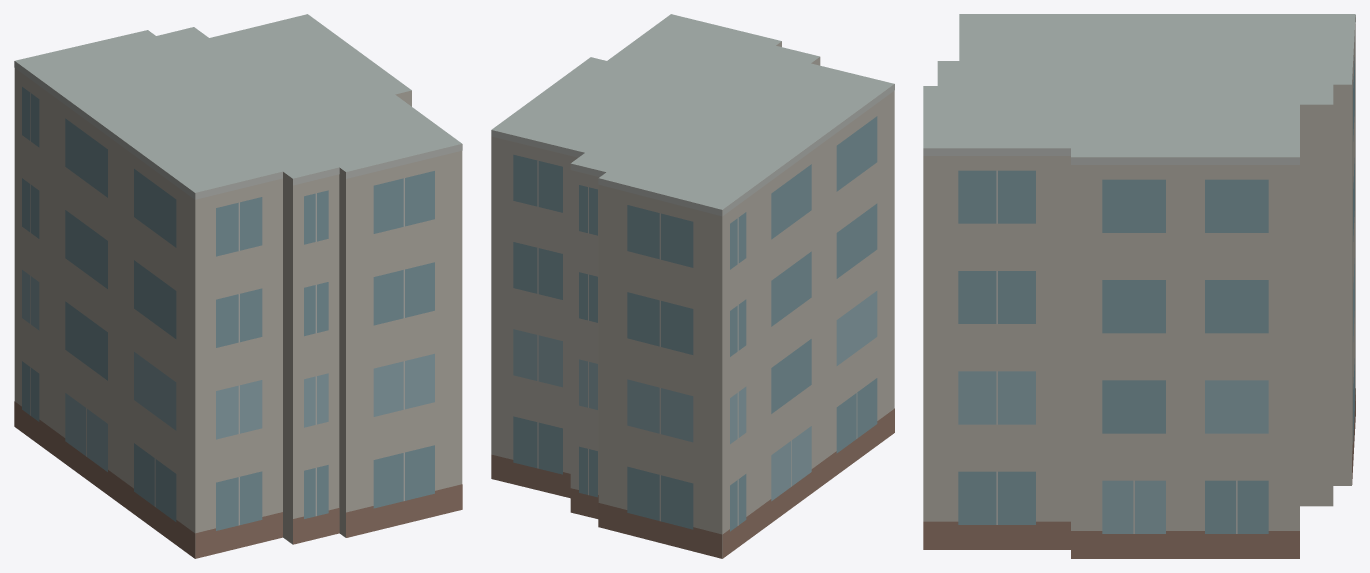
Rendered from survey-upis-32482147.glb.
3 views of the same model, side by side, from view 1: azimuth 30°, elevation 25°; view 2: azimuth 150°, elevation 25°; view 3: azimuth 270°, elevation 25° (orthographic). The views are drawn at different scales.
Parts seen in each view (by area): view 1: survey-upis-32482147.tmp; view 2: survey-upis-32482147.tmp; view 3: survey-upis-32482147.tmp.
Part boxes in pixels (bbox=[...]): survey-upis-32482147.tmp: bbox=[14, 14, 462, 558]; survey-upis-32482147.tmp: bbox=[491, 14, 894, 558]; survey-upis-32482147.tmp: bbox=[923, 14, 1355, 558].
Size of the model in its own units: 9.98 by 13 by 12.7.
